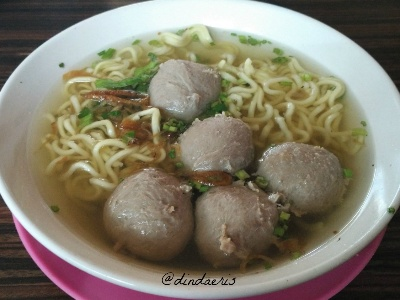bakso: (118, 57, 349, 271)
